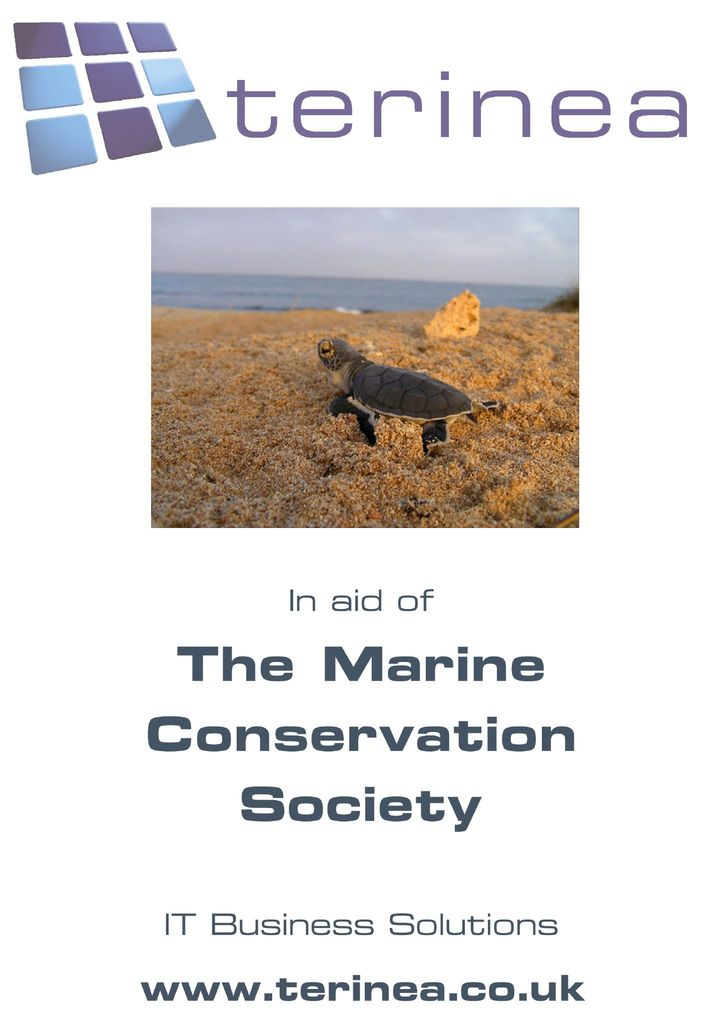Sea turtles: (315, 336, 497, 451)
